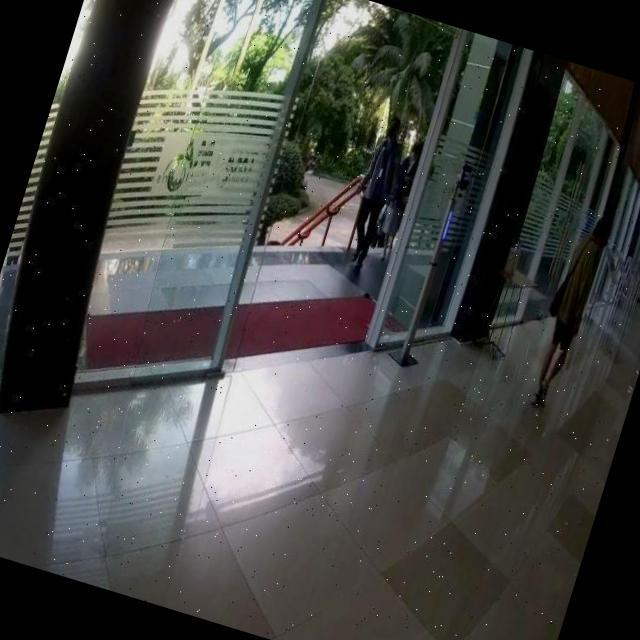person: (526, 210, 614, 417), (340, 120, 409, 276), (372, 142, 426, 265)
